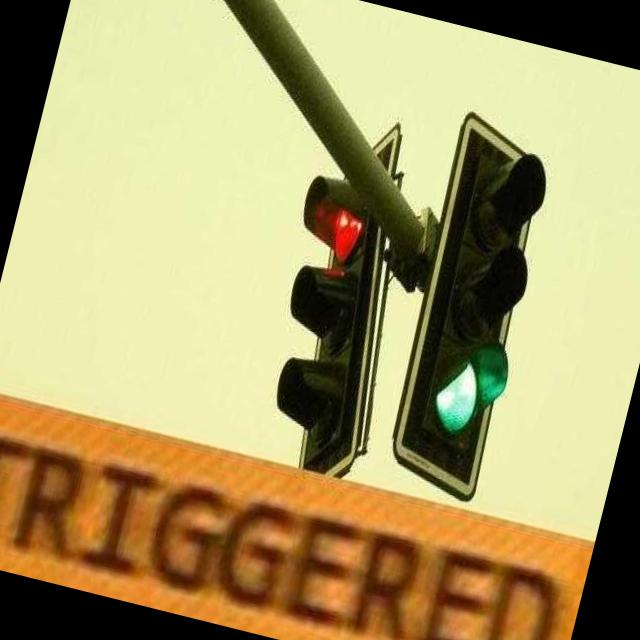green-lights: (392, 310, 532, 478)
red-lights: (284, 138, 430, 286)
